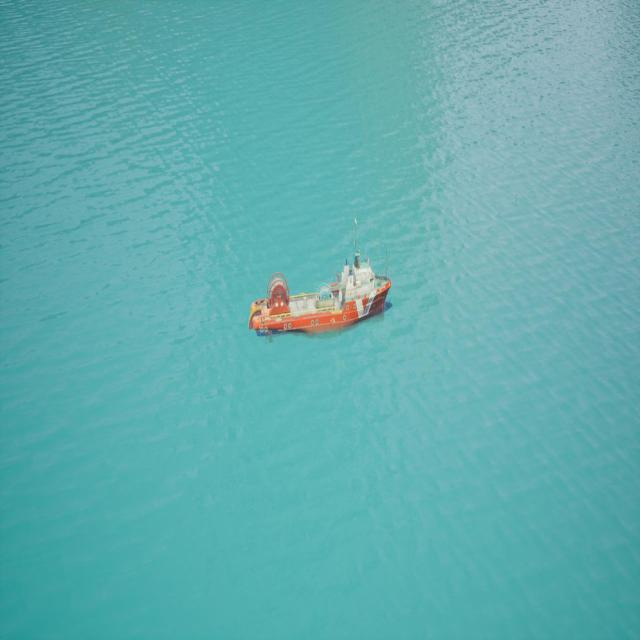tug boat: (249, 260, 397, 337)
